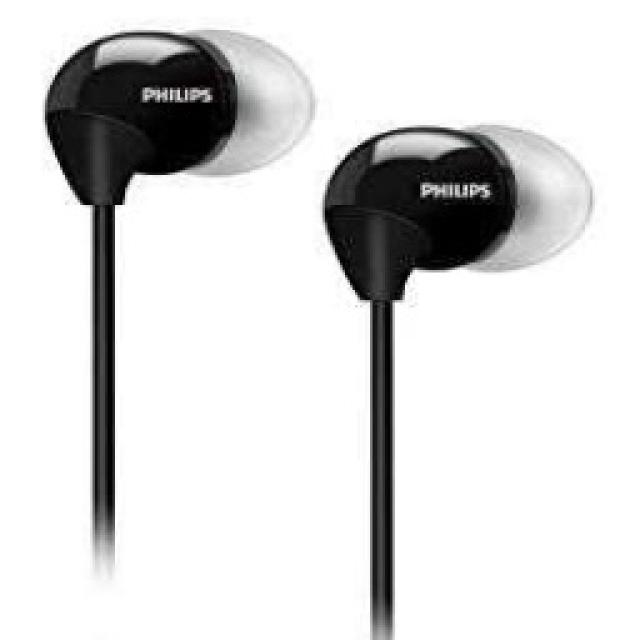headphones: (320, 120, 592, 302)
